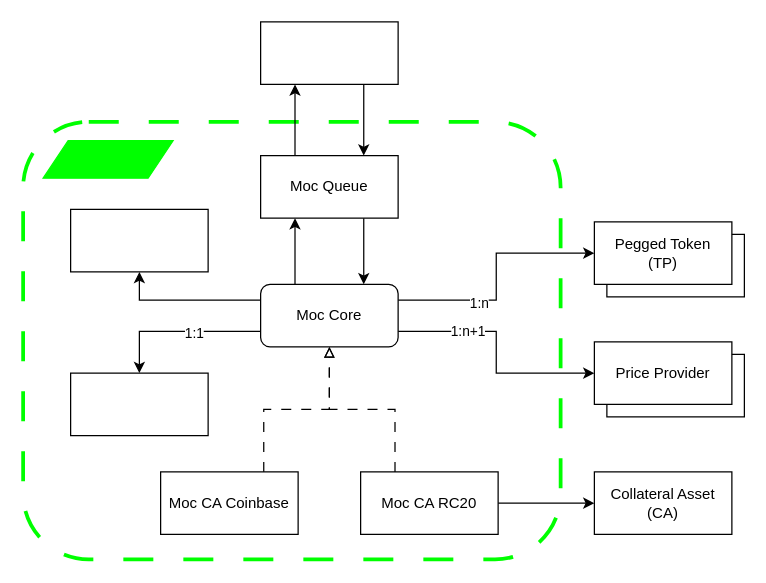
This 766x583 diagram has some shape labels left out. Here are the shapes that lost their labels. From the top down, the centre of each, then its label:
(328,52): Moc Multicollateral Guard
(107,158): BUCKET
(138,240): Moc Core Expansion
(138,404): Collateral Token (TC)
